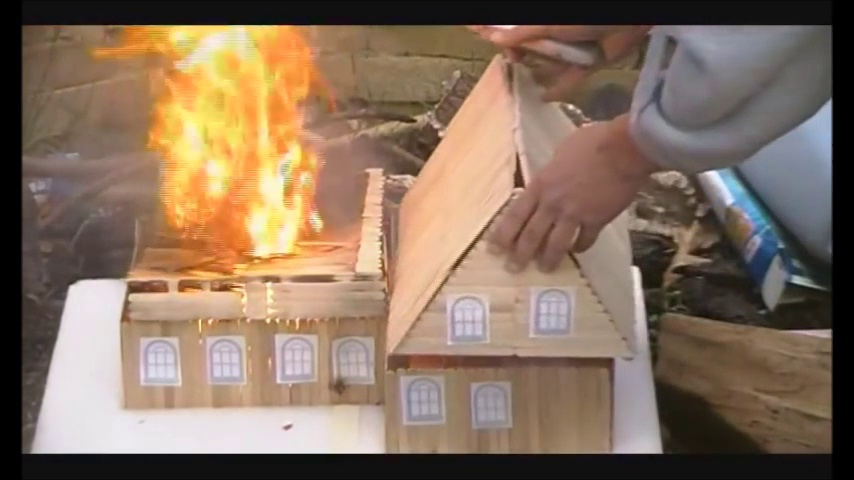fire: (142, 25, 324, 262)
